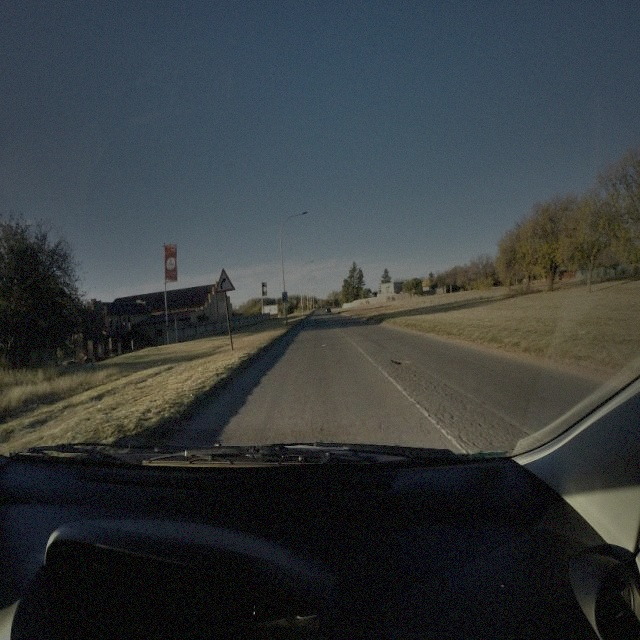pothole: (390, 357, 404, 365)
